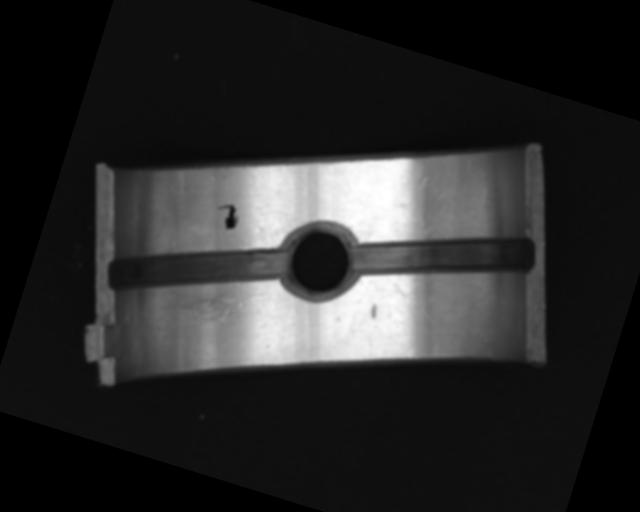blot: (211, 199, 243, 233)
bruise: (368, 302, 380, 319)
gap: (102, 201, 292, 335), (347, 191, 539, 321)
hole: (273, 214, 366, 303)
scratch: (156, 264, 256, 336)
